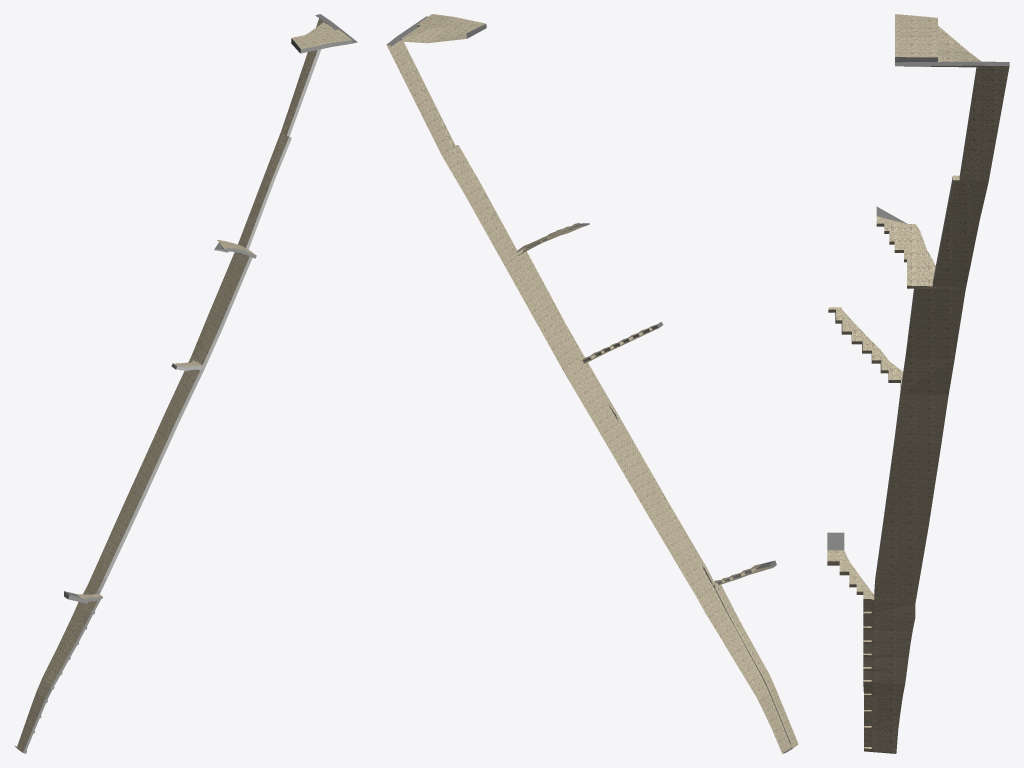
File: Pikk_jalg_myyr_2.obj
3 views of the same model, side by side, from view 1: azimuth 30°, elevation 25°; view 2: azimuth 150°, elevation 25°; view 3: azimuth 270°, elevation 25° (orthographic). The views are drawn at different scales.
Visible parts, largest first — view 1: Pikk_jalg_myyr_2; view 2: Pikk_jalg_myyr_2; view 3: Pikk_jalg_myyr_2.
Part boxes in pixels (<box>): Pikk_jalg_myyr_2: <box>14,14,357,753</box>; Pikk_jalg_myyr_2: <box>386,14,798,753</box>; Pikk_jalg_myyr_2: <box>827,14,1009,753</box>.
Bounding box in the file's own units: 75.26 × 131 × 22.73.
Materials: 3 (2 with a texture image).
